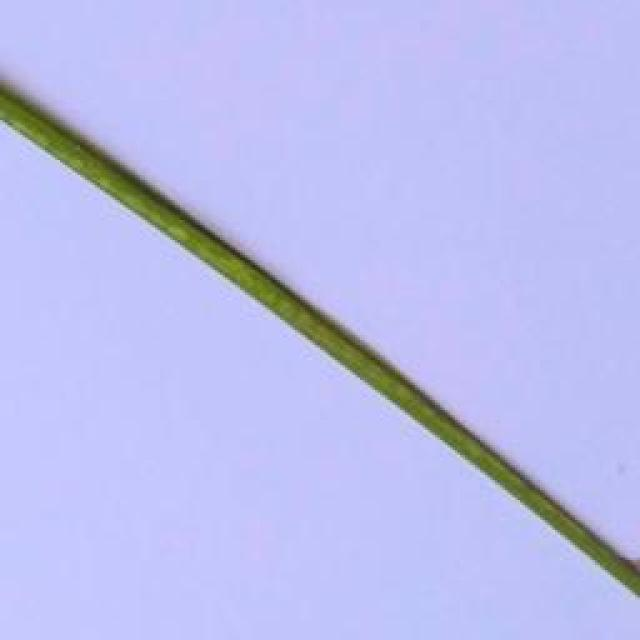Healthy-Plant: (3, 90, 640, 595)
